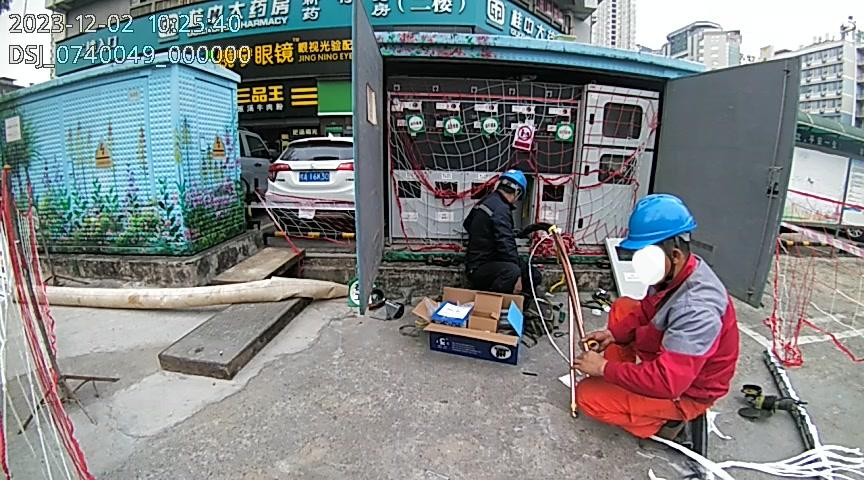halt: (622, 196, 701, 289), (497, 173, 530, 203)
inear: (664, 240, 693, 277)
